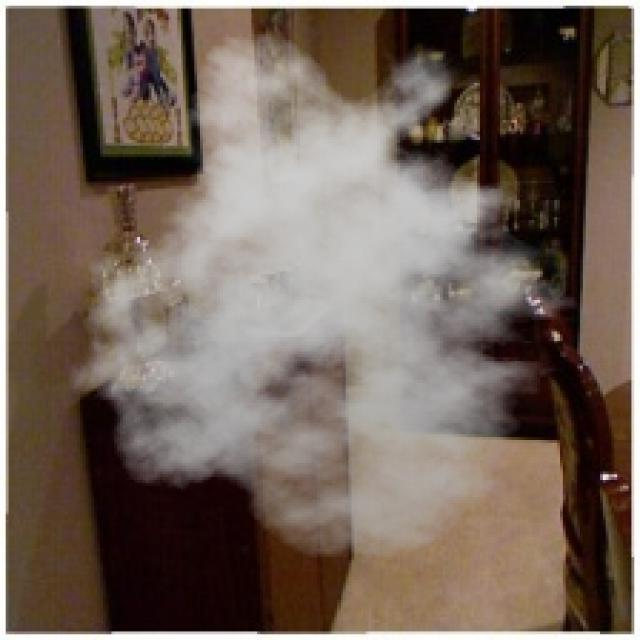smoke: (54, 29, 600, 560)
